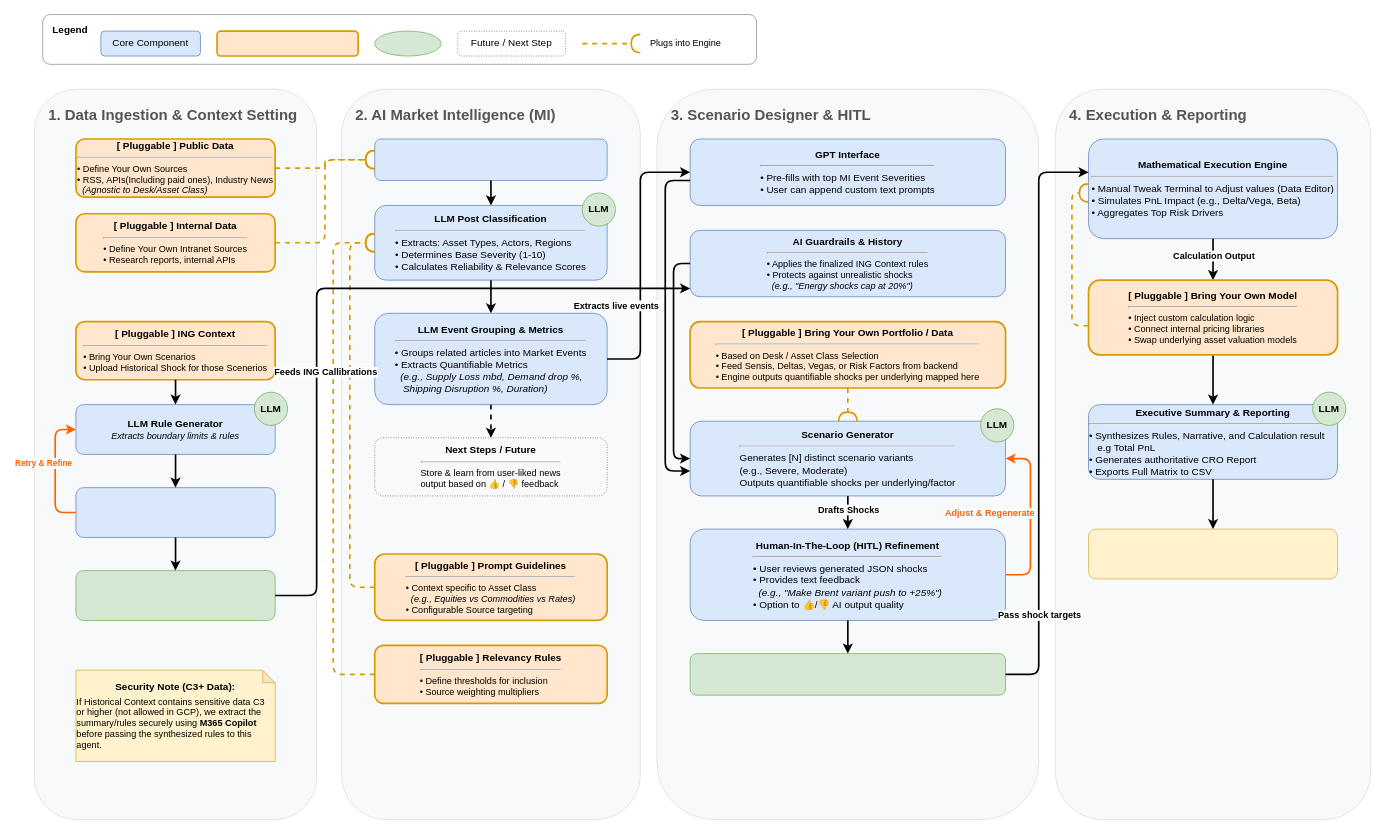
The diagram is 1385 pixels wide and 834 high, and some of its shapes have lost their labels. Here are the shapes that lost their labels. From the top down, the centre of each, then its label:
point 287,43: [ Pluggable ] Component
point 407,43: LLM Agent
point 490,159: NLP Filter & Deduplication Pre-filters noise using keyword matching
point 175,512: HITL: Rules Review Adjust & Retry until satisfied
point 1213,553: Risk Manager / CRO Assesses PnL and takes strategic action
point 175,595: Finalized Framework Rules Passes boundaries to Scenario Designer
point 847,674: Confirmed Scenario Matrix Finalized numerical shocks per ticker/asset/factor
